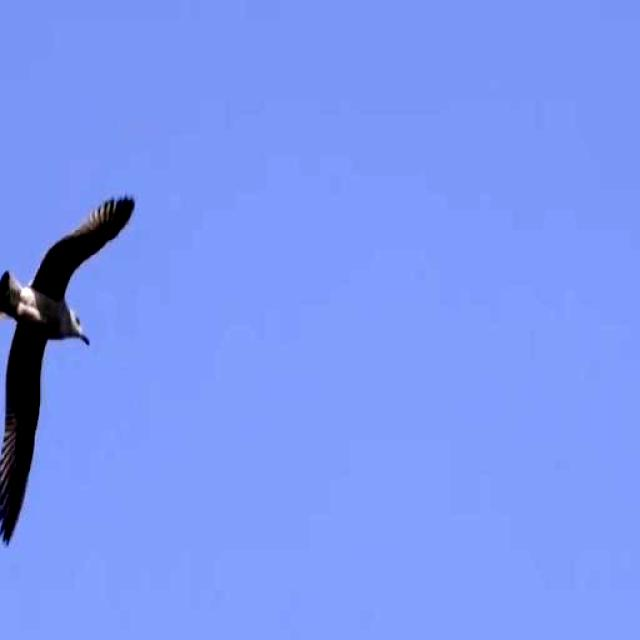airplane: (0, 158, 146, 566)
